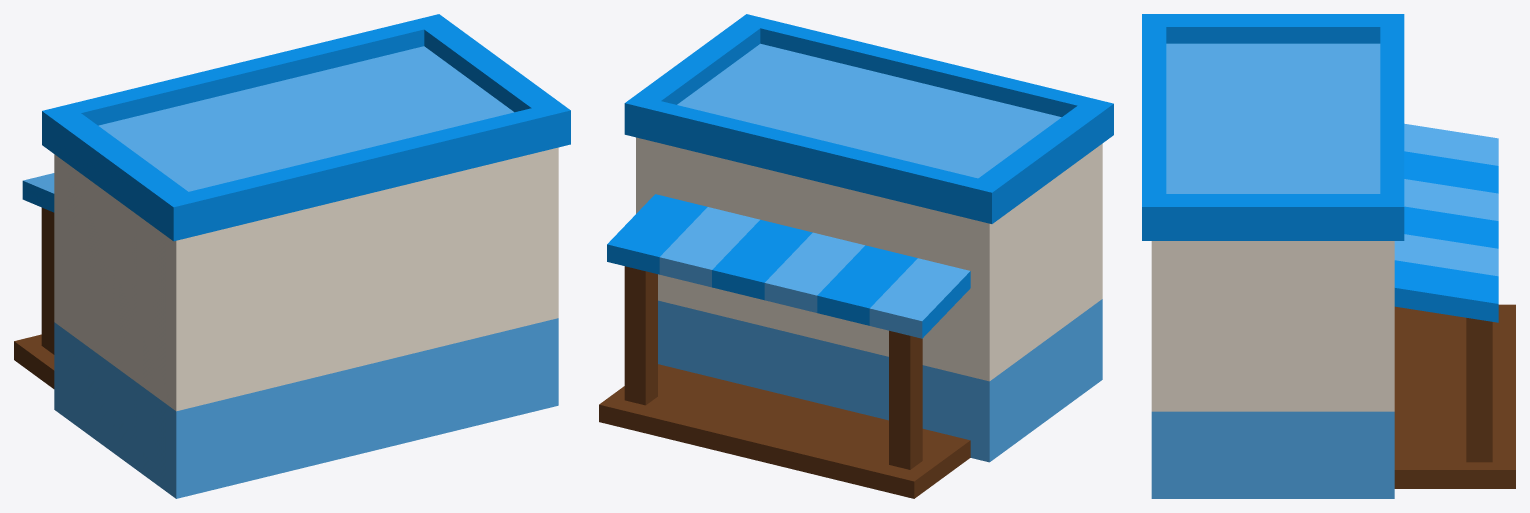
Rendered from Map-Shop-W-Lv2-B.fbx.
The picture shows the model from 3 angles, left to right: view 1: azimuth 30°, elevation 25°; view 2: azimuth 150°, elevation 25°; view 3: azimuth 270°, elevation 25°; orthographic projection. The views are drawn at different scales.
Visible parts, largest first — view 1: Map-Shop-W-Lv2-B; view 2: Map-Shop-W-Lv2-B; view 3: Map-Shop-W-Lv2-B.
Boxes of the visible parts, x1,y1,x2,y2 form: Map-Shop-W-Lv2-B: (14, 14, 570, 498); Map-Shop-W-Lv2-B: (599, 14, 1113, 498); Map-Shop-W-Lv2-B: (1142, 14, 1515, 498).
Bounding box in the file's own units: 1.75 × 1.25 × 1.43.
